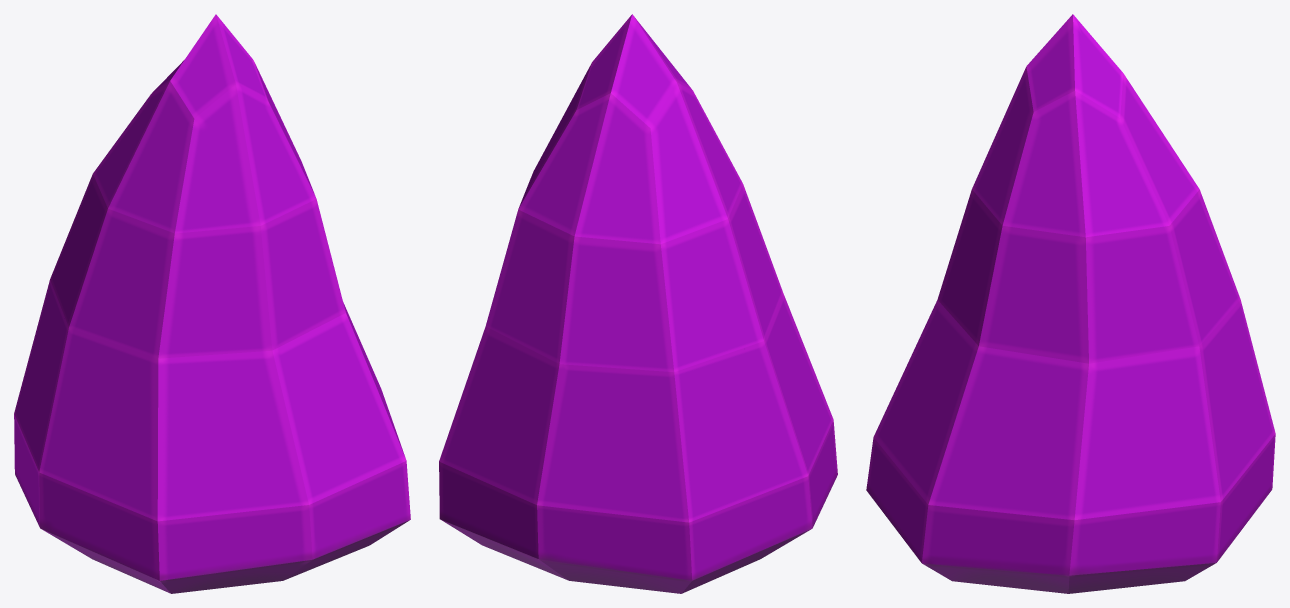
Rendered from Crystal.fbx.
3 views of the same model, side by side, from view 1: azimuth 30°, elevation 25°; view 2: azimuth 150°, elevation 25°; view 3: azimuth 270°, elevation 25° (orthographic).
Parts seen in each view (by area): view 1: Crystal; view 2: Crystal; view 3: Crystal.
Boxes of the visible parts, x1=… form: Crystal: x1=14, y1=14, x2=410, y2=593; Crystal: x1=439, y1=14, x2=837, y2=593; Crystal: x1=866, y1=14, x2=1275, y2=593.
Bounding box in the file's own units: 95.59 × 96.36 × 137.
Materials: 1 (1 with a texture image).
